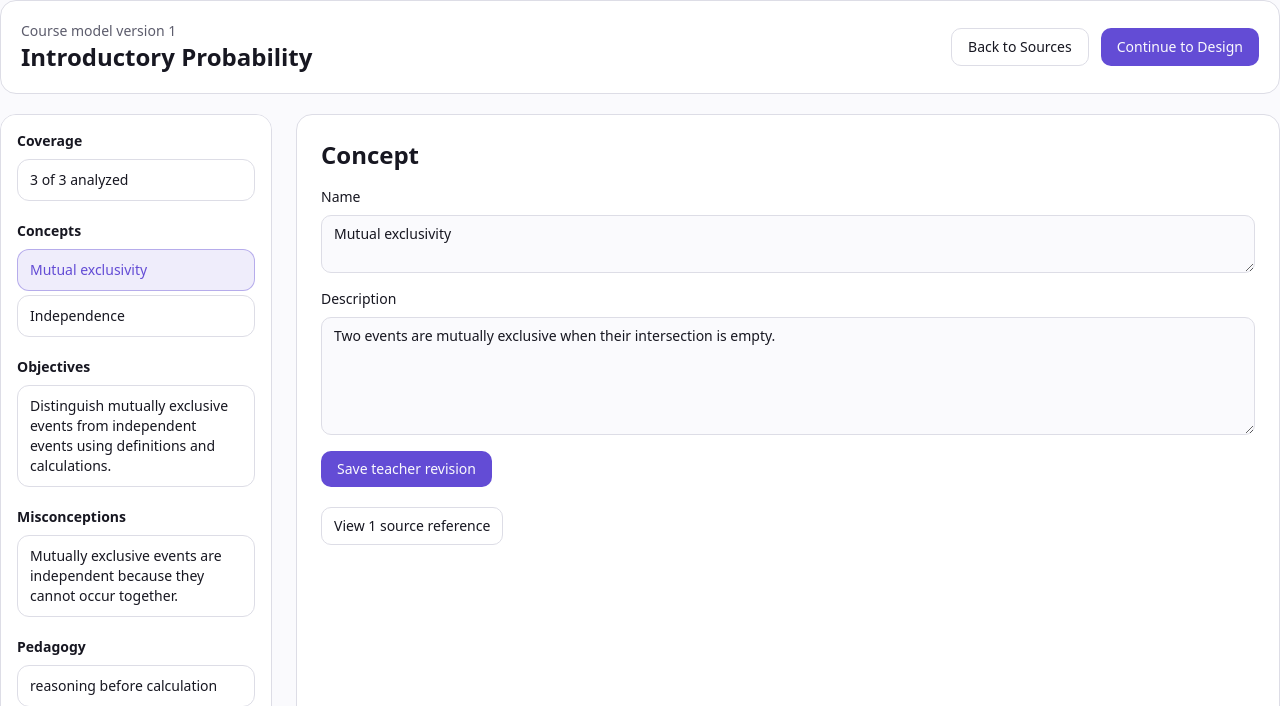
Scenario: CourseModelReview › saves an allowed teacher correction as a version-aware PATCH revision
Expected: the heading "Introductory Probability" is shown, 21,41 -> 312,73
Click the button "Independence" at (136, 316), box 17,295 -> 255,337
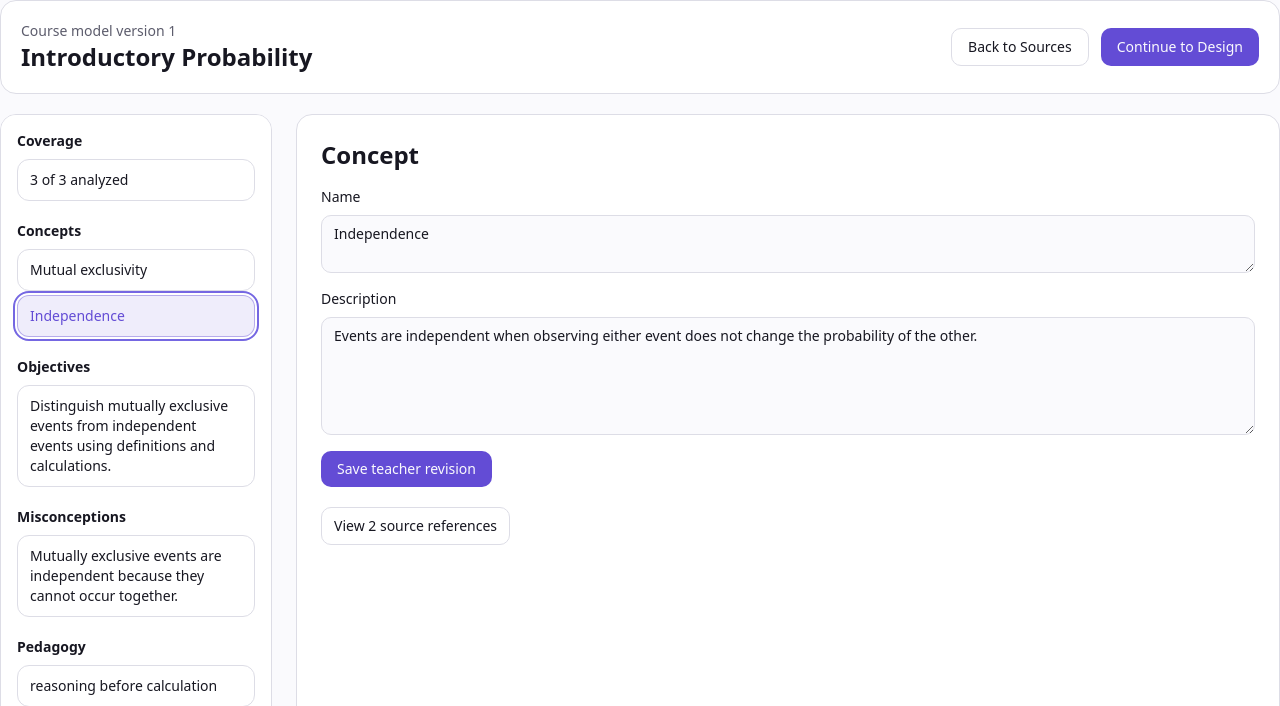
Replace the text in the text box labelled "Description" with "Teacher-approved wording." at (788, 376), box 321,317 -> 1255,435
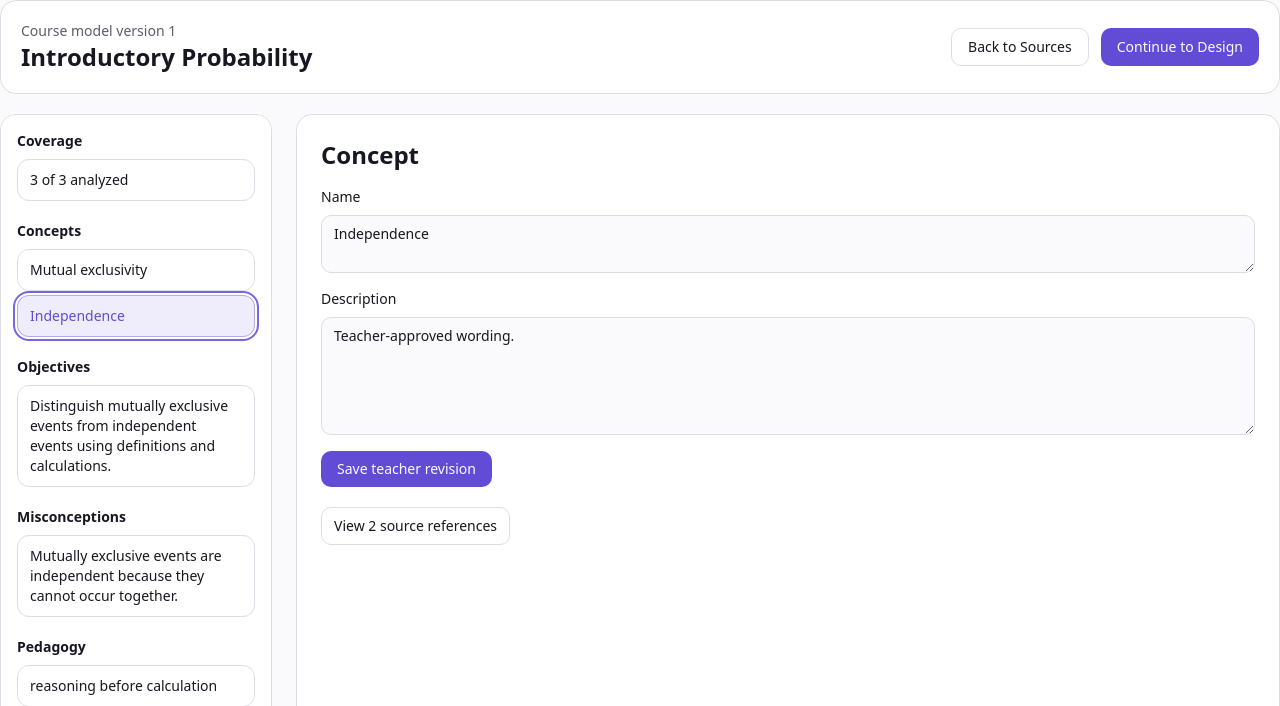
Click the button "Save teacher revision" at (406, 469), box 321,451 -> 492,487
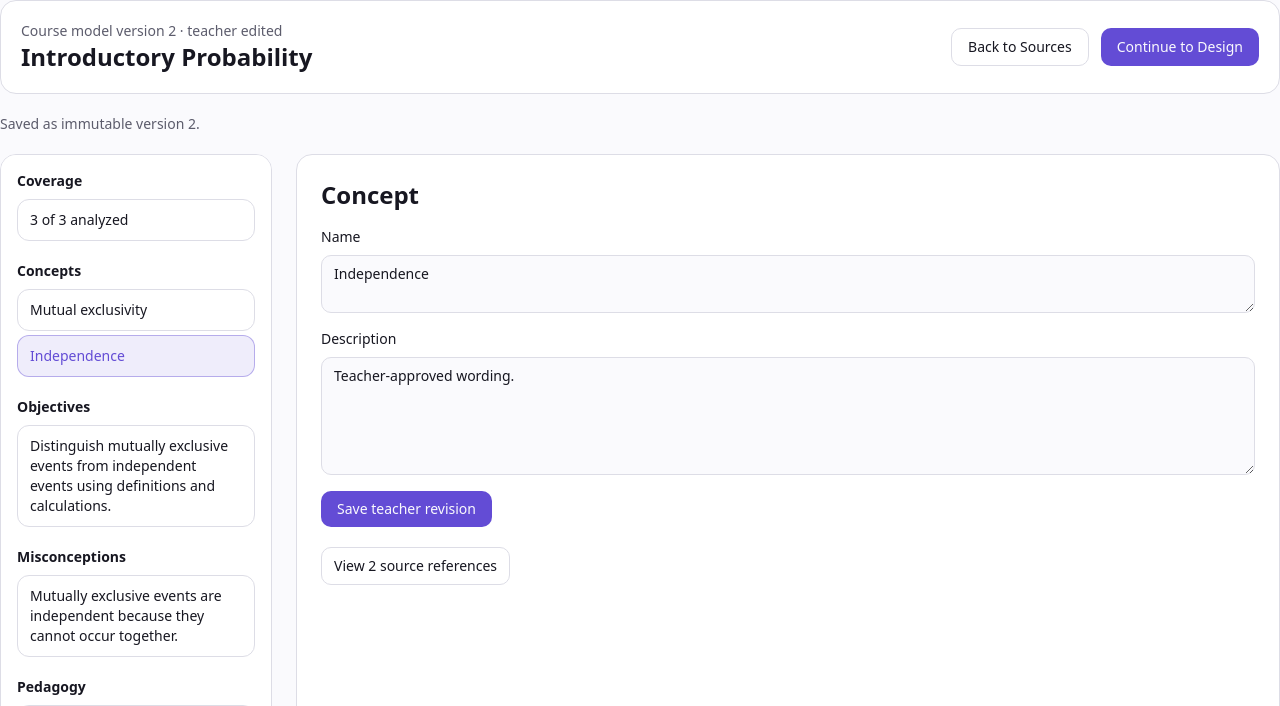
Expected: the text "Saved as immutable version 2." is shown, 0,114 -> 200,133
